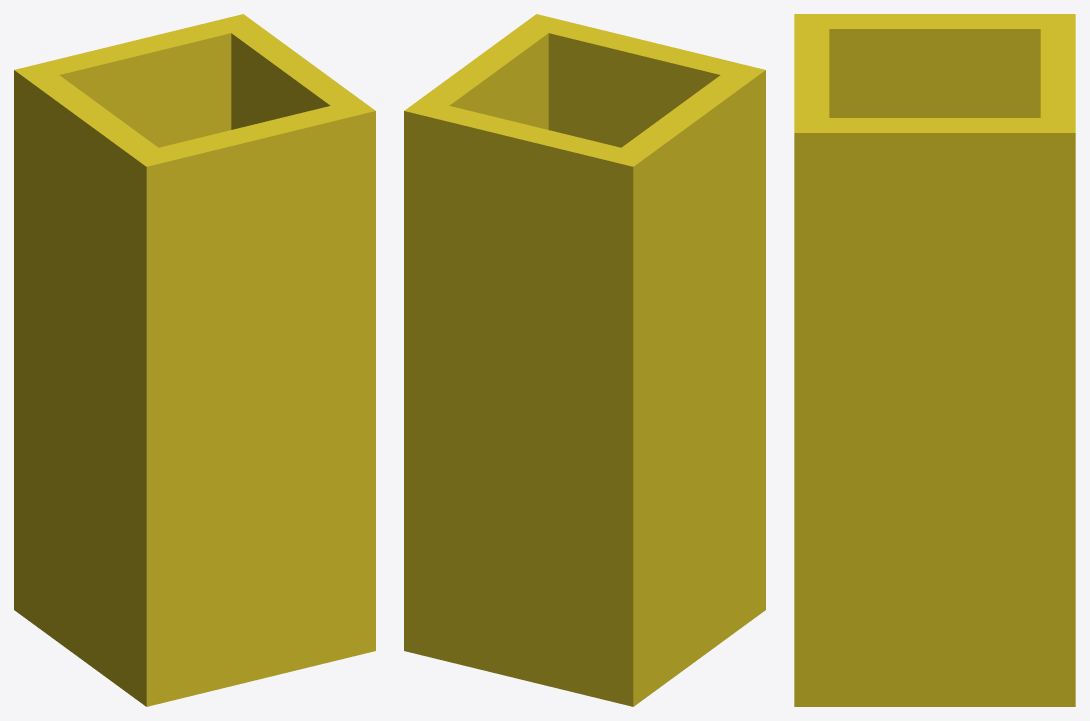
The model's file is Leg_R.fbx.
The picture shows the model from 3 angles, left to right: view 1: azimuth 30°, elevation 25°; view 2: azimuth 150°, elevation 25°; view 3: azimuth 270°, elevation 25°; orthographic projection. The views are drawn at different scales.
Visible parts, largest first — view 1: Cube.015; view 2: Cube.015; view 3: Cube.015.
Part boxes in pixels (bbox=[...]): Cube.015: bbox=[14, 14, 375, 706]; Cube.015: bbox=[404, 14, 765, 706]; Cube.015: bbox=[794, 14, 1075, 706].
Size of the model in its own units: 26.78 by 60.26 by 26.78.
